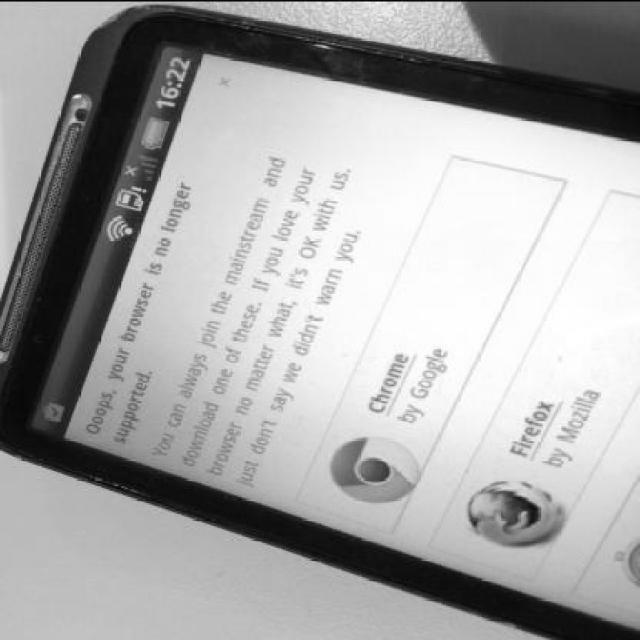fake: (0, 1, 637, 640)
